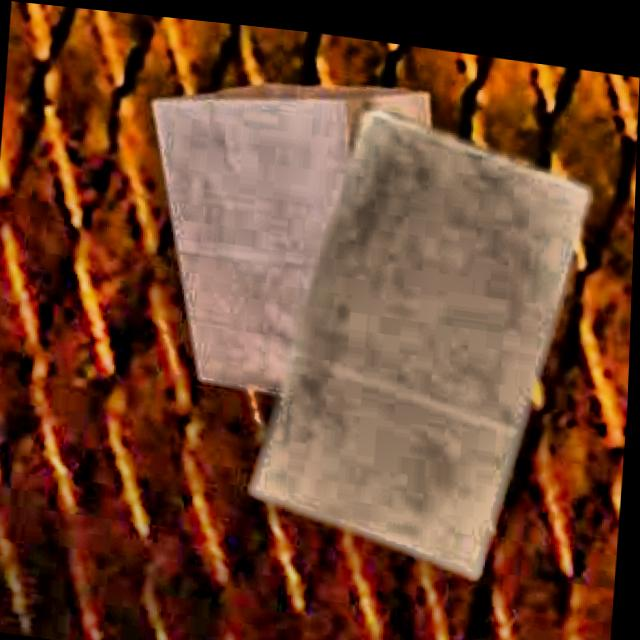Paper-bag: (245, 83, 602, 589), (132, 53, 446, 429)
